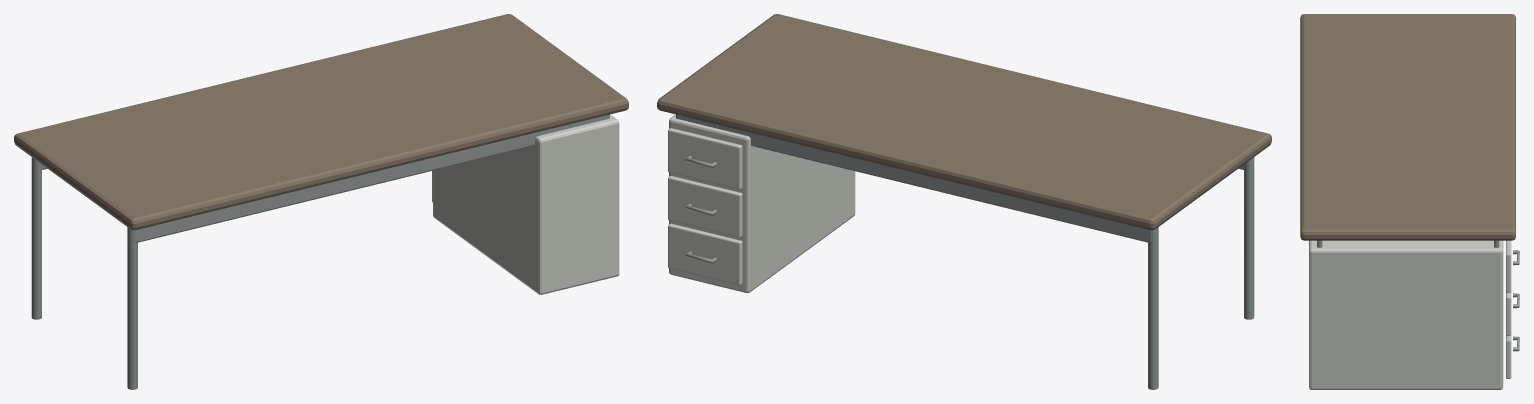
Rendered from broadcast_desk.glb.
3 views of the same model, side by side, from view 1: azimuth 30°, elevation 25°; view 2: azimuth 150°, elevation 25°; view 3: azimuth 270°, elevation 25° (orthographic). The views are drawn at different scales.
Visible parts, largest first — view 1: KitWood, KitIvory, KitSteel; view 2: KitWood, KitIvory, KitSteel; view 3: KitWood, KitIvory, KitSteel.
Boxes of the visible parts, left/top/right/bottom form: KitWood: left=14, top=14, right=628, bottom=230; KitIvory: left=432, top=114, right=619, bottom=294; KitSteel: left=31, top=114, right=609, bottom=389; KitWood: left=657, top=14, right=1271, bottom=230; KitIvory: left=668, top=114, right=855, bottom=293; KitSteel: left=676, top=114, right=1254, bottom=389; KitWood: left=1300, top=14, right=1515, bottom=240; KitIvory: left=1309, top=240, right=1511, bottom=389; KitSteel: left=1317, top=240, right=1519, bottom=351.
Size of the model in its own units: 2.4 by 0.8275 by 1.02.
